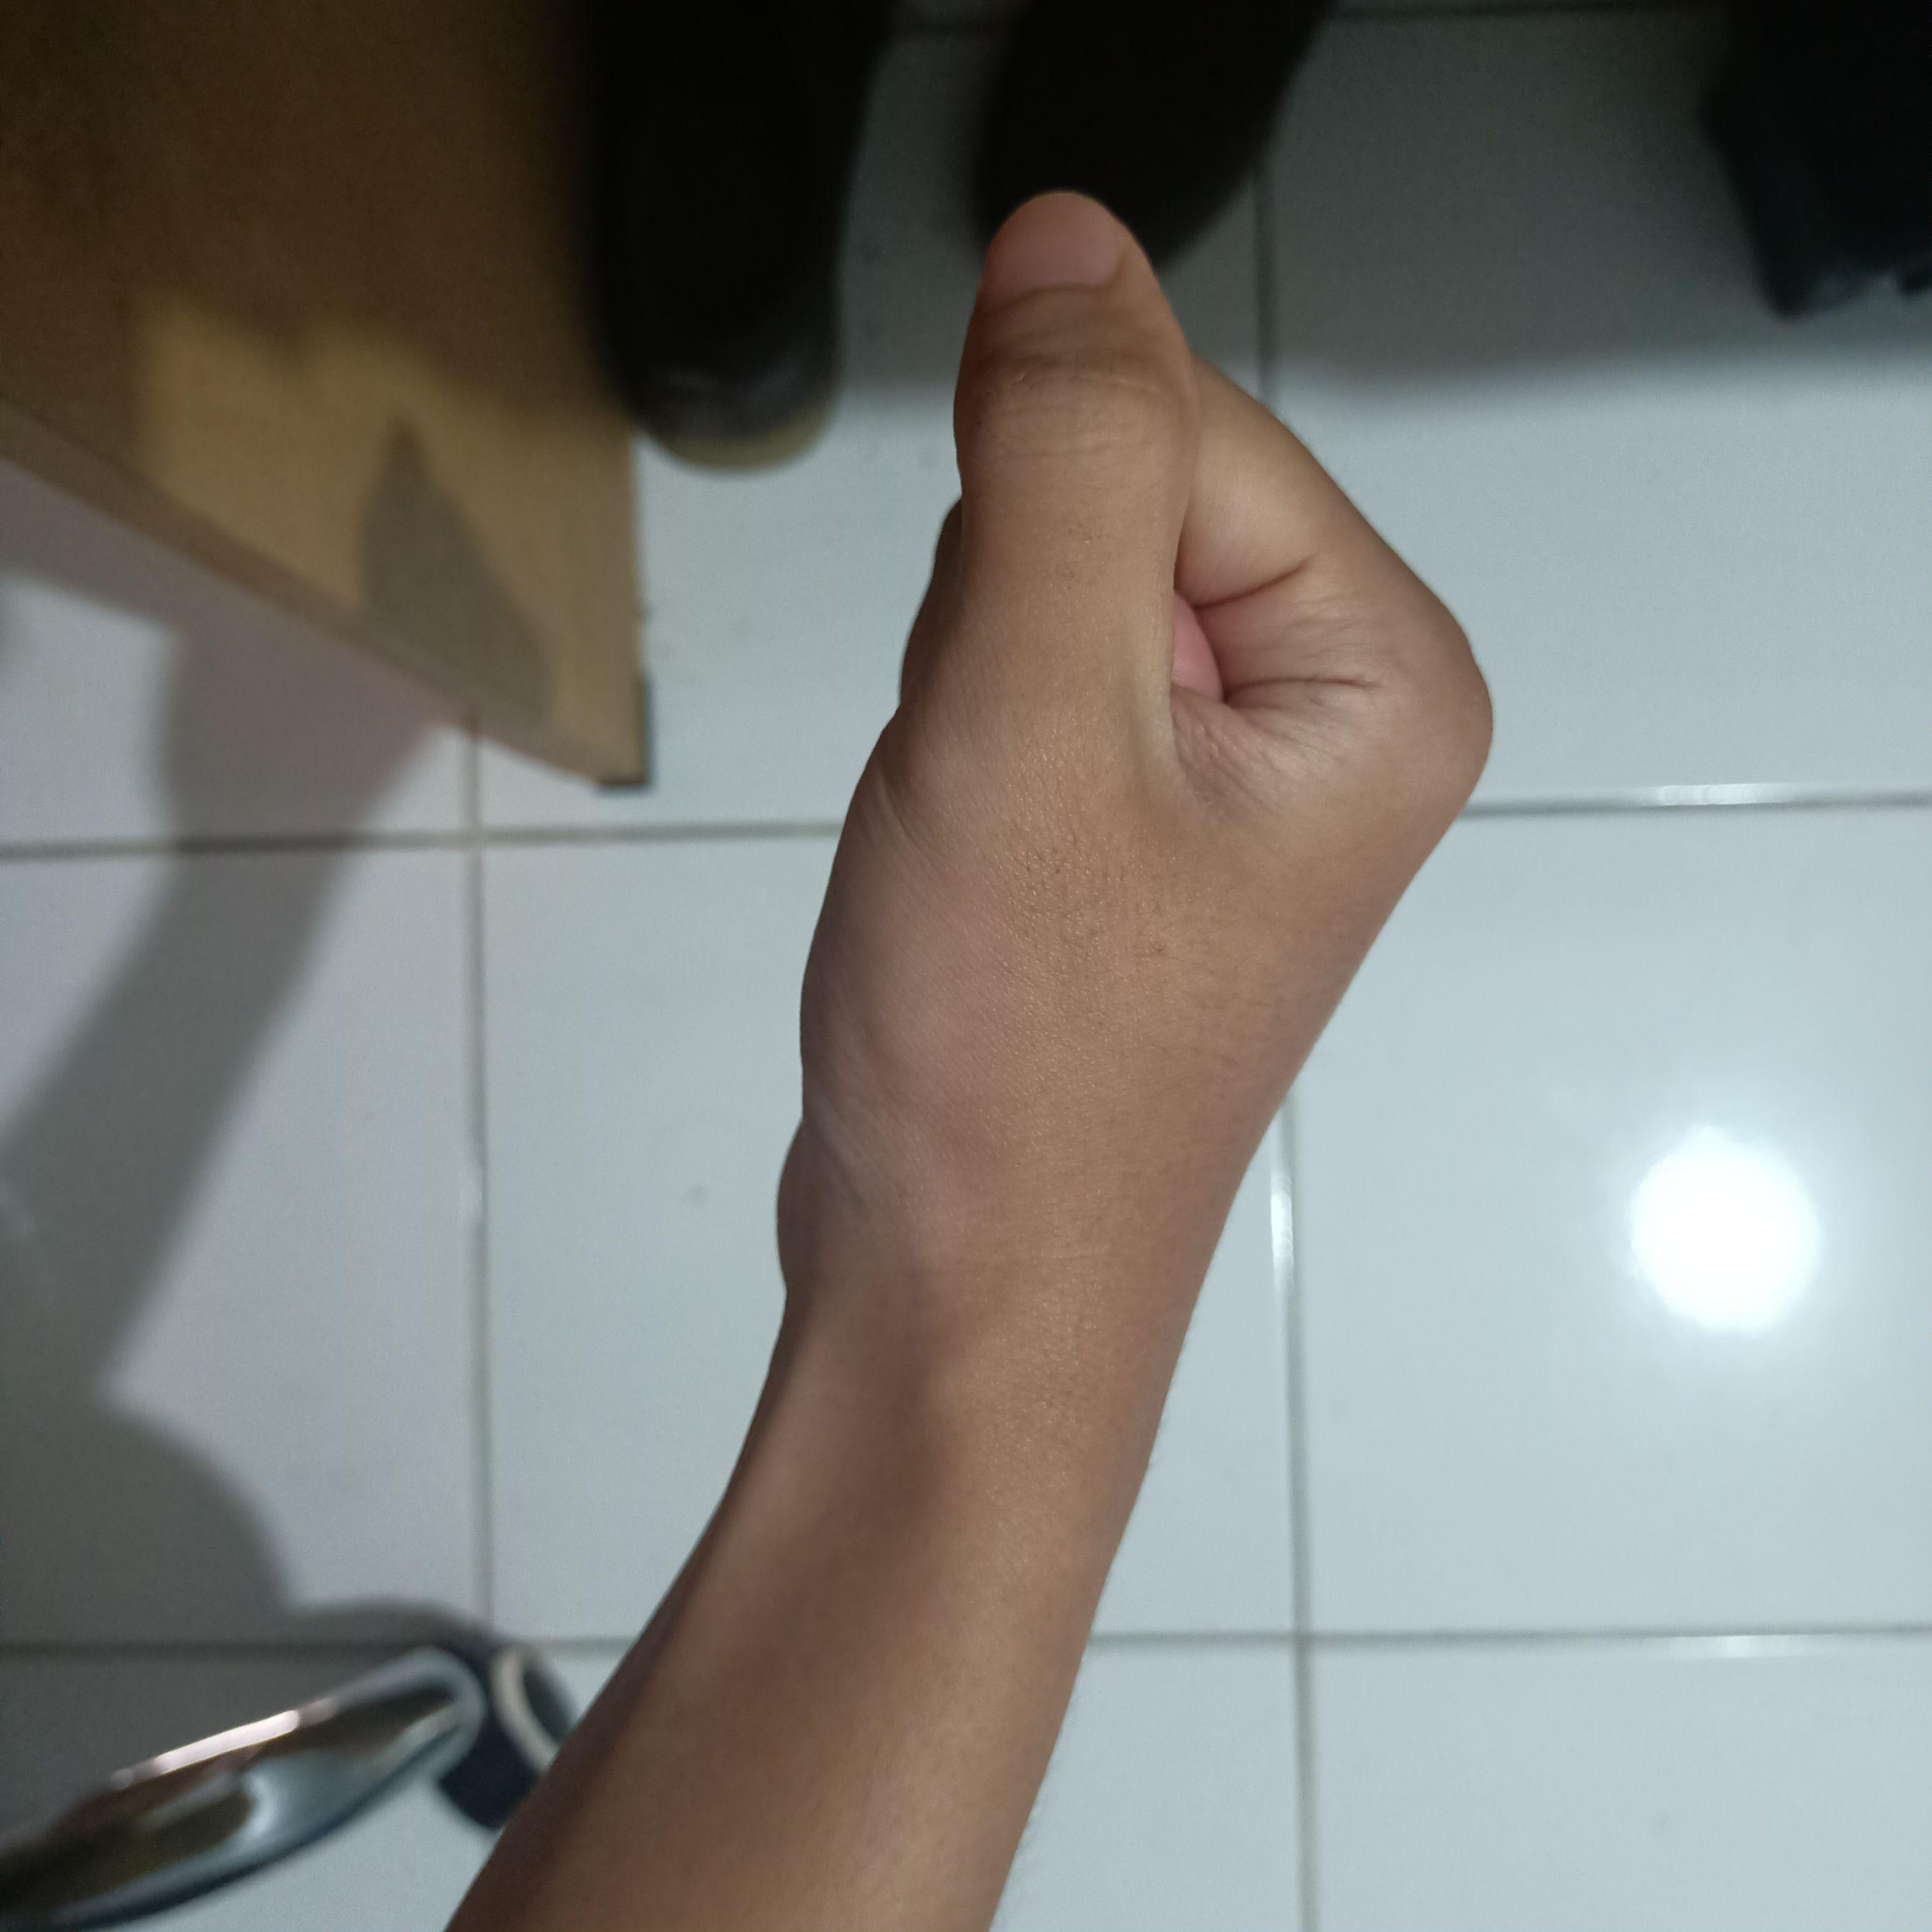rock: (759, 157, 1529, 1403)
